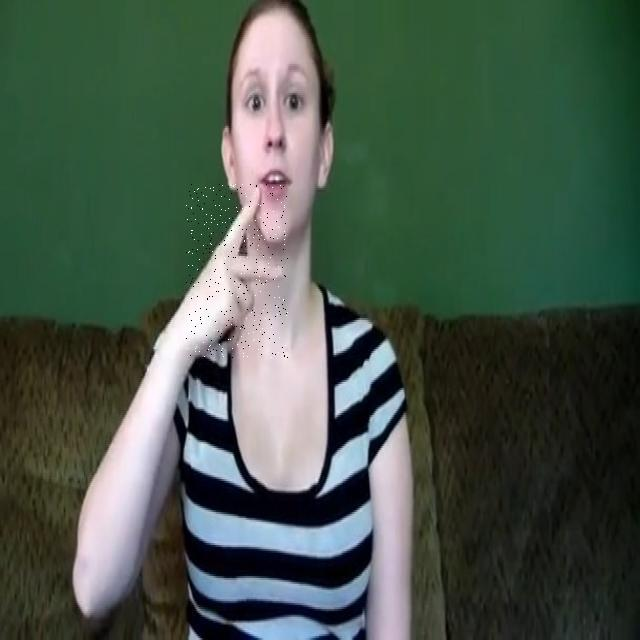vegetables: (186, 184, 288, 358)
